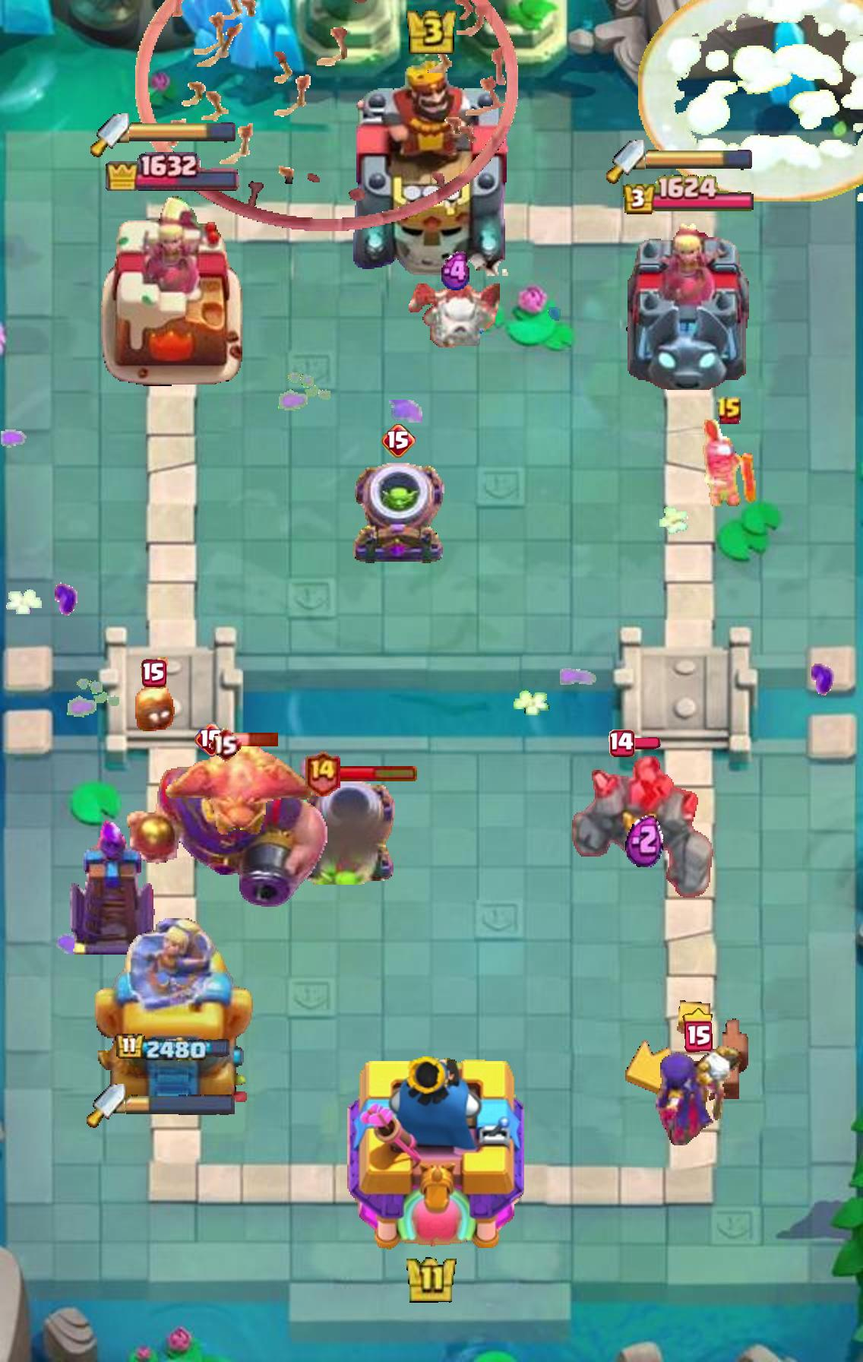elixir: (625, 812, 663, 867), (438, 252, 476, 292)
